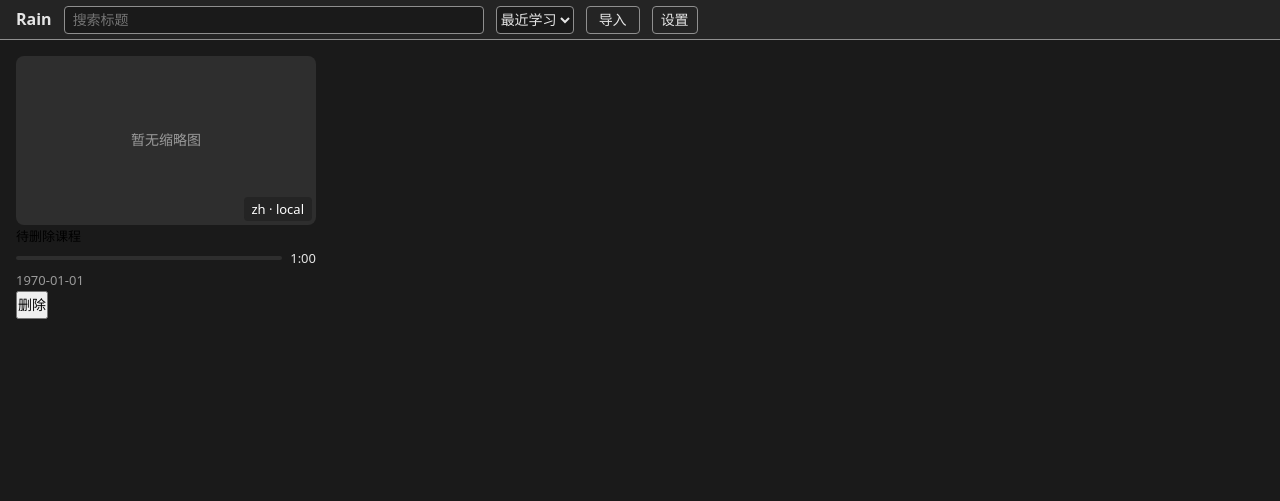
AC-LV-13 production Video deletion › lets the user confirm deletion and removes the Video with all owned study data
The width and height of the screenshot is (1280, 501).
Click the button "删除": (32, 305) [16,291,48,319]
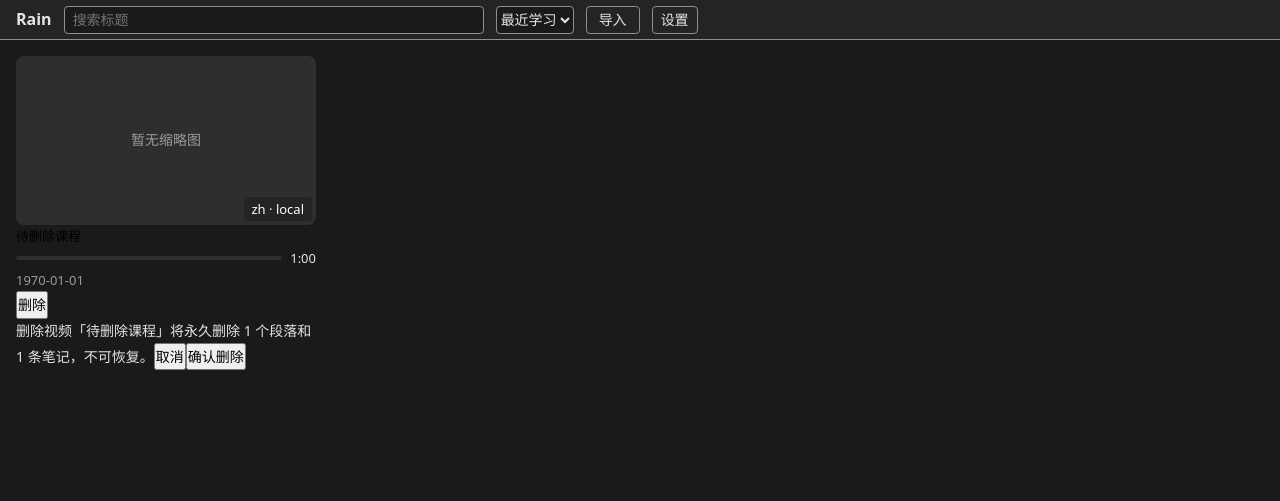
Expected: the element with test id "delete-confirm" shows "1 个段落和 1 条笔记", [16,321,311,366]
Click the button "确认删除": (216, 356) [186,343,246,370]
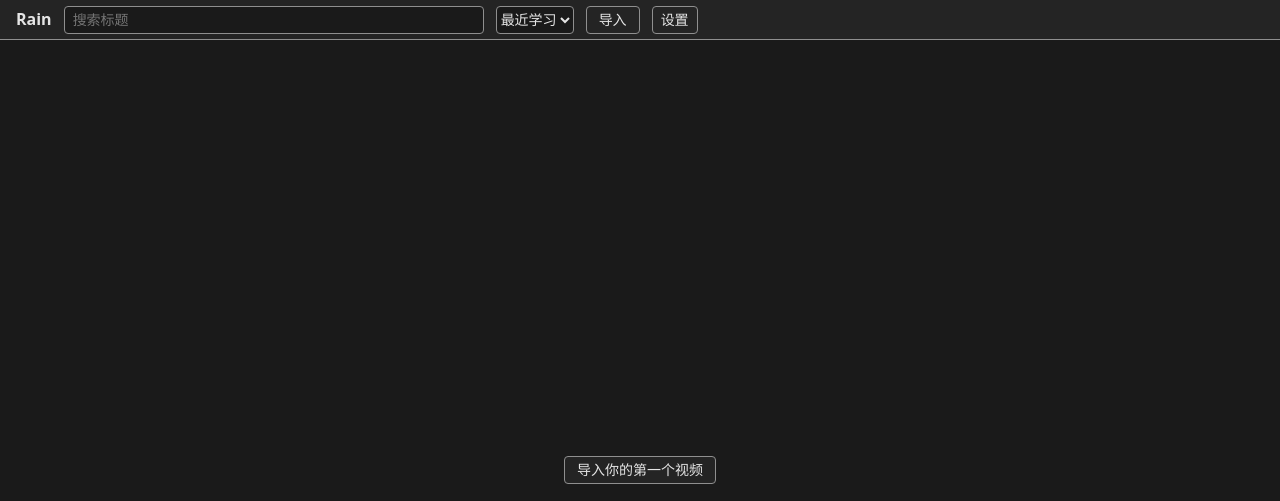
Expected: the element with test id "card-delete-me" is gone
